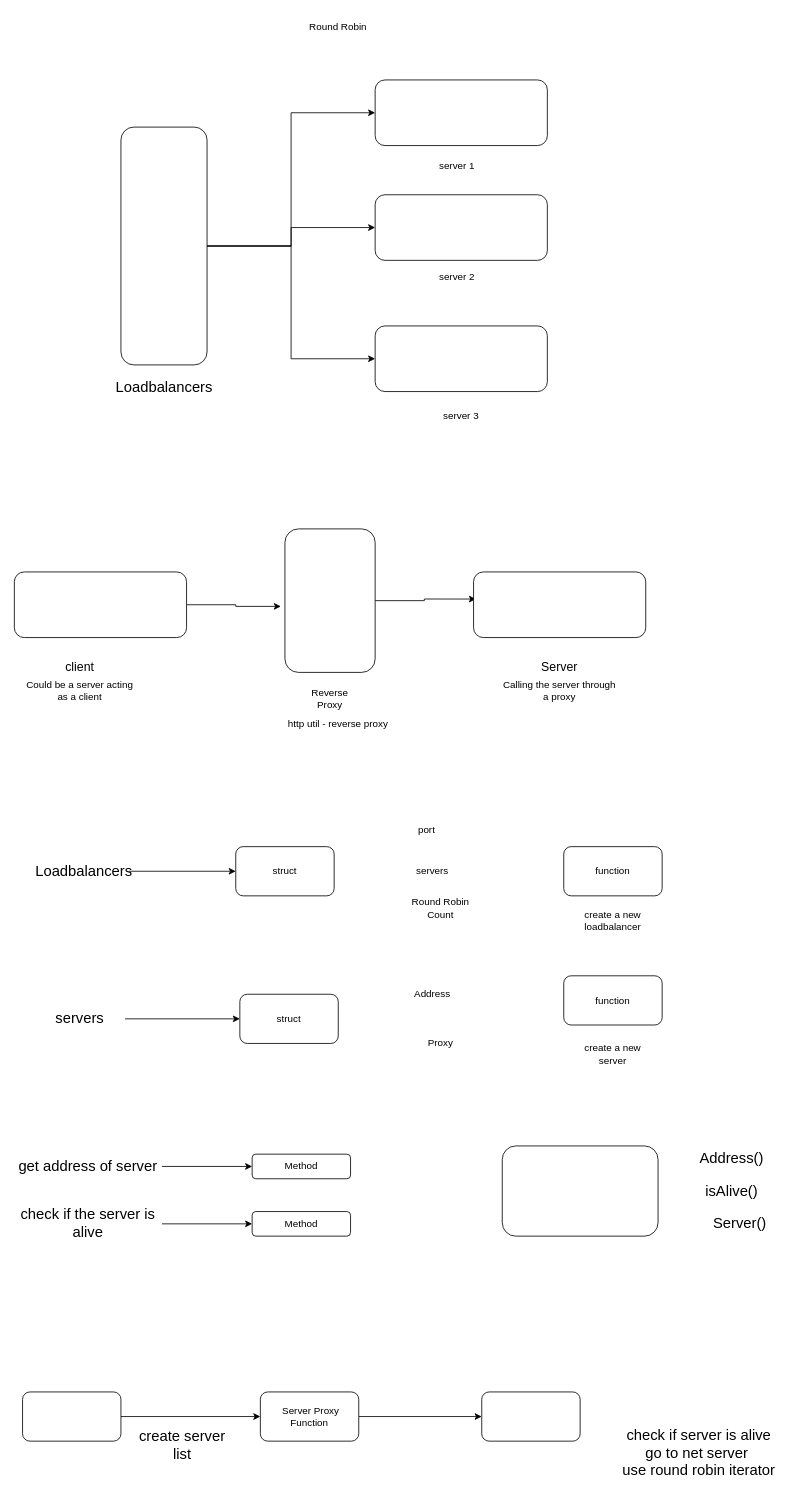
Some shapes in this 800 by 1494 pixel diagram are drawn without their labels. Here are the shapes that lost their labels. From the top down, the centre of each, then its label:
At (579,1190): "Server Interface".
At (71,1416): "Main func".
At (530,1416): "Get Next Available server function".
